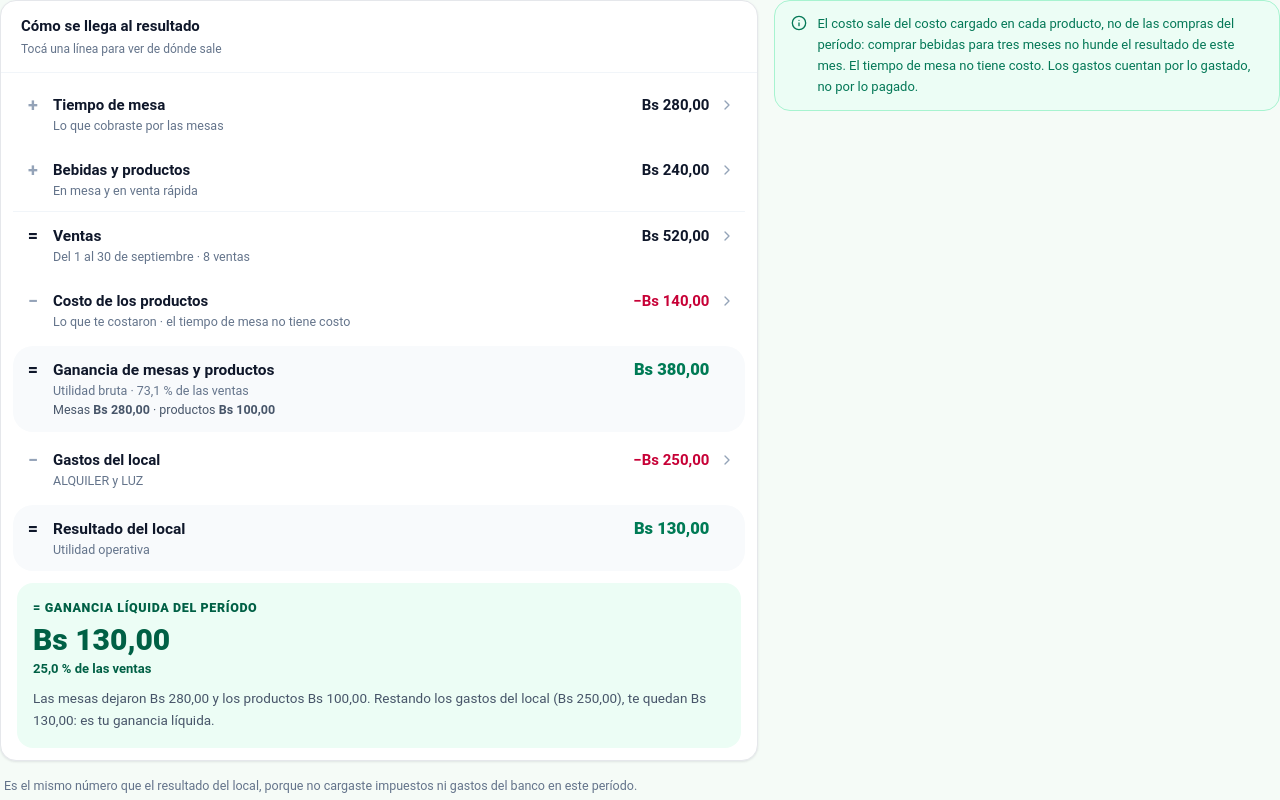
estado de resultado por rubro › los gastos del local abren su detalle: qué son, agrupados, con lo pagado y lo que falta
Click the text "Gastos del local". click: point(107, 460)
box: [53,451,160,469]
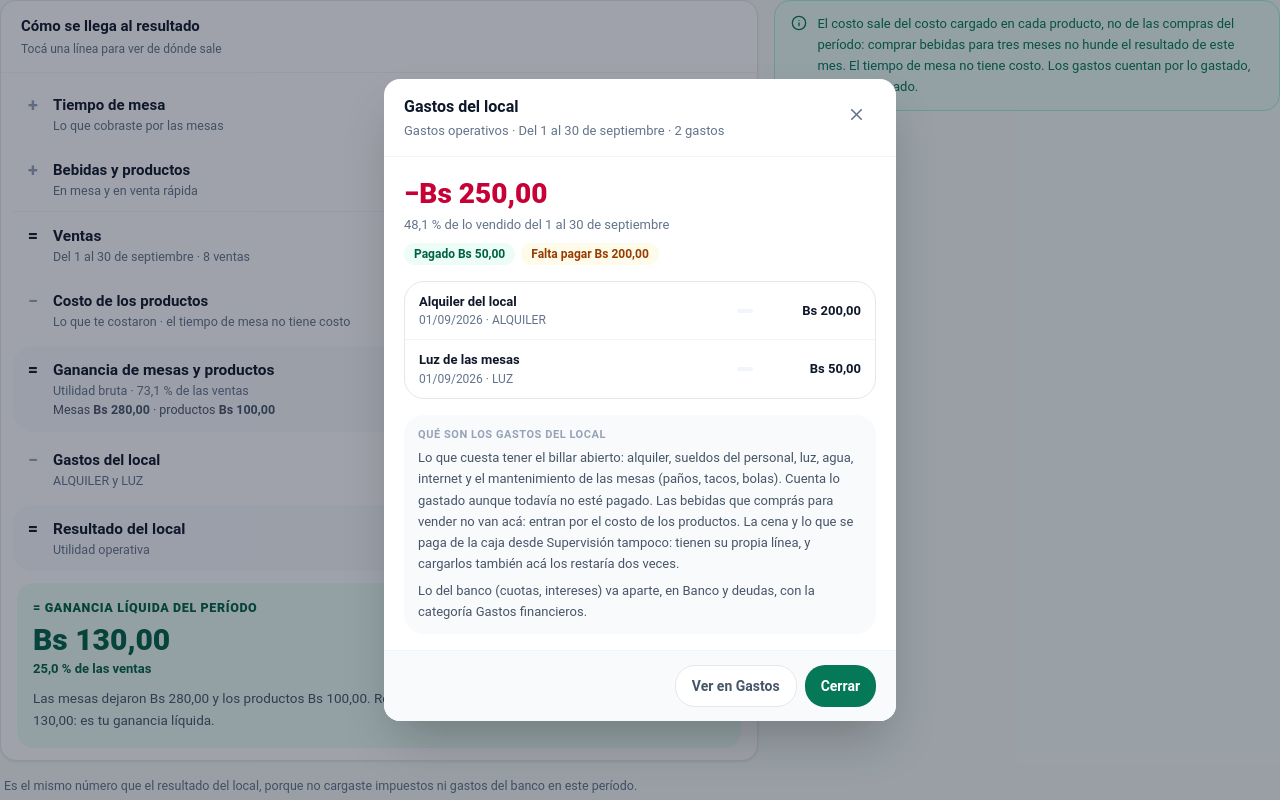
Check: the text "Qué son los gastos del local" is shown, box [418,428,606,441]
Check: the text "paños, tacos, bolas" is shown, box [418,450,853,571]
